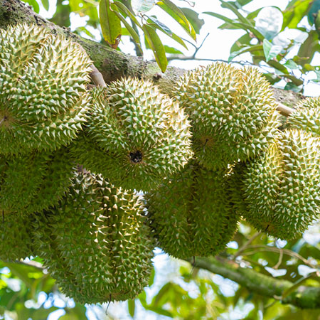sau_rieng: (86, 75, 193, 195), (184, 57, 280, 174), (247, 129, 316, 241)
